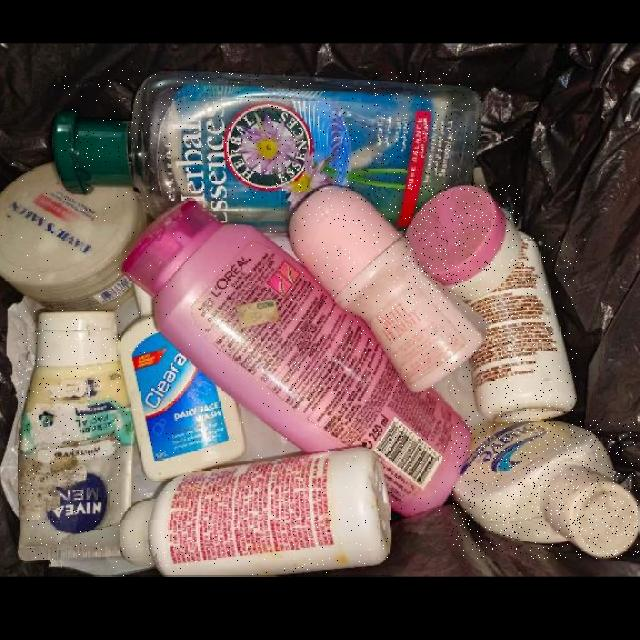plastic: (120, 200, 477, 520), (50, 70, 482, 235), (62, 447, 393, 576), (291, 189, 487, 394), (18, 312, 133, 562), (452, 419, 639, 559), (117, 283, 247, 481), (0, 162, 147, 312), (468, 231, 577, 424), (403, 185, 521, 305)
